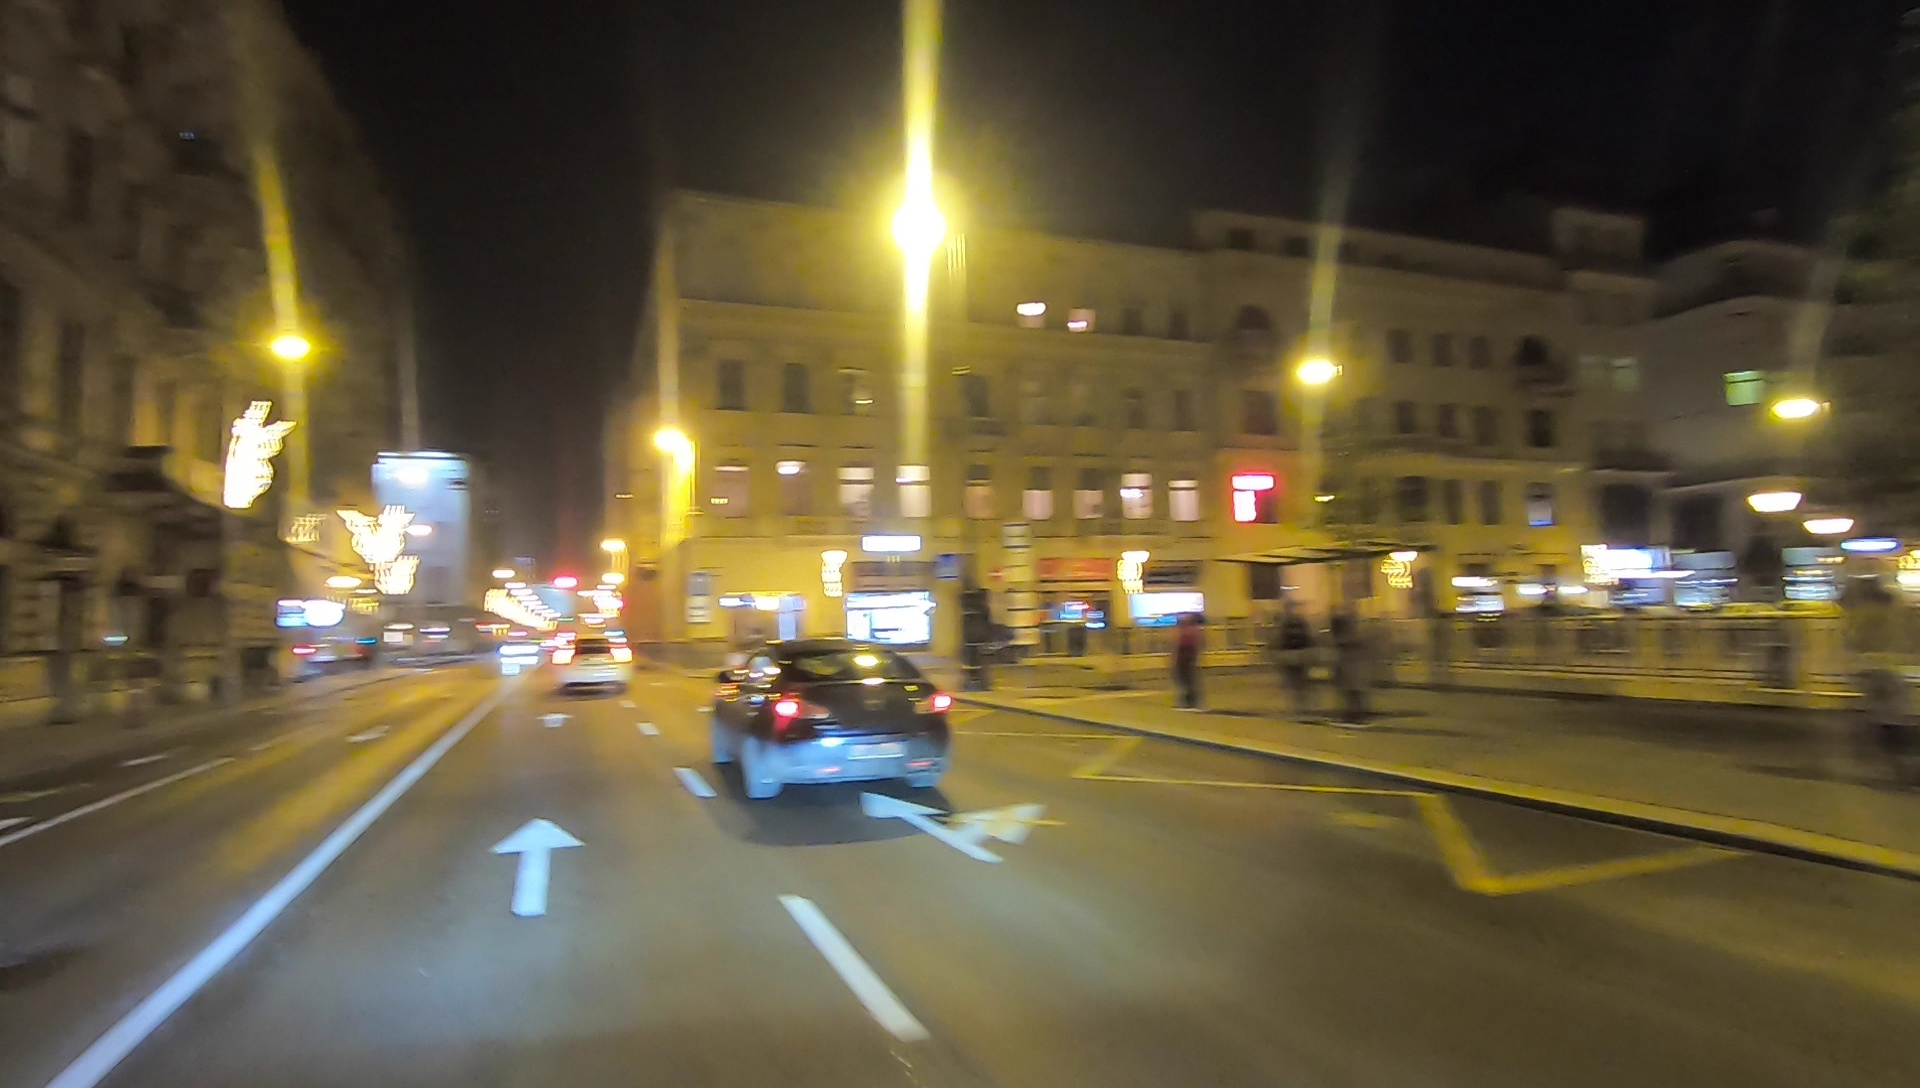person: (1265, 604, 1321, 726), (1328, 606, 1378, 723), (1173, 617, 1206, 713)
